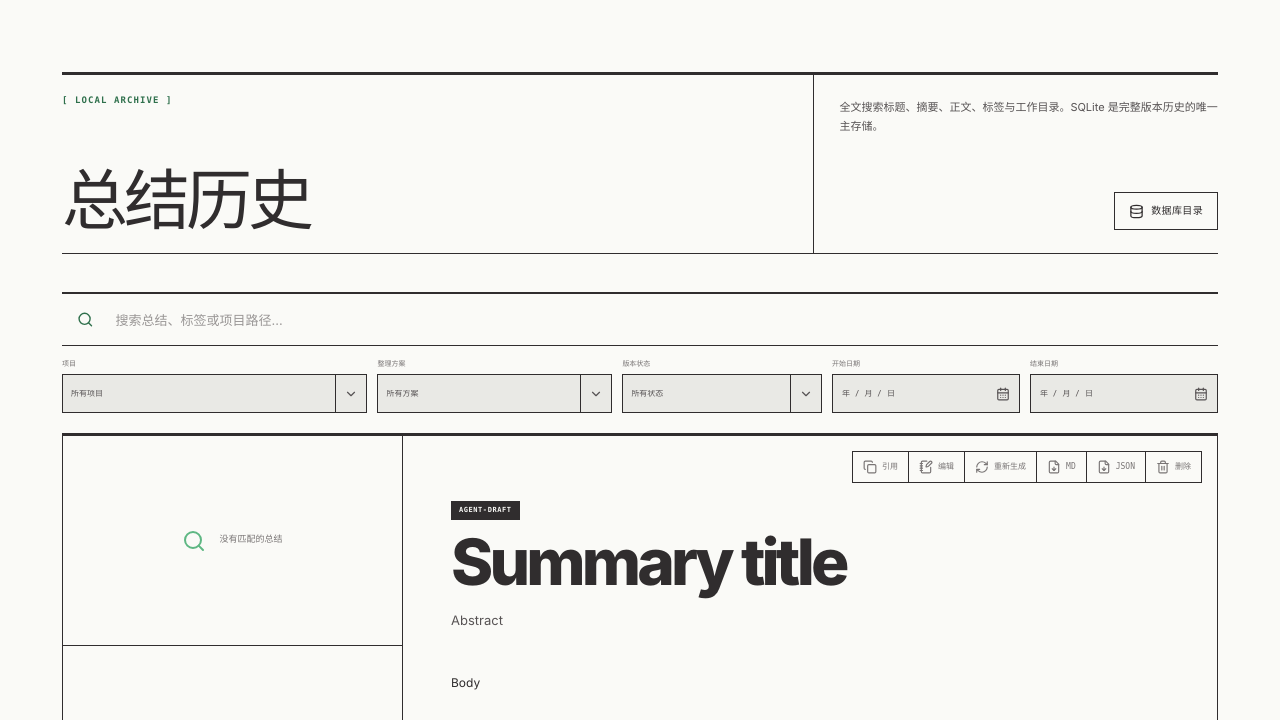
it: HistoryPage › requires an inline confirmation before deleting the selected summary
The width and height of the screenshot is (1280, 720).
Expected: the heading "Summary title" is shown, [451,524,846,601]
Click the button "删除" at (1174,467), box [1146,452,1201,482]
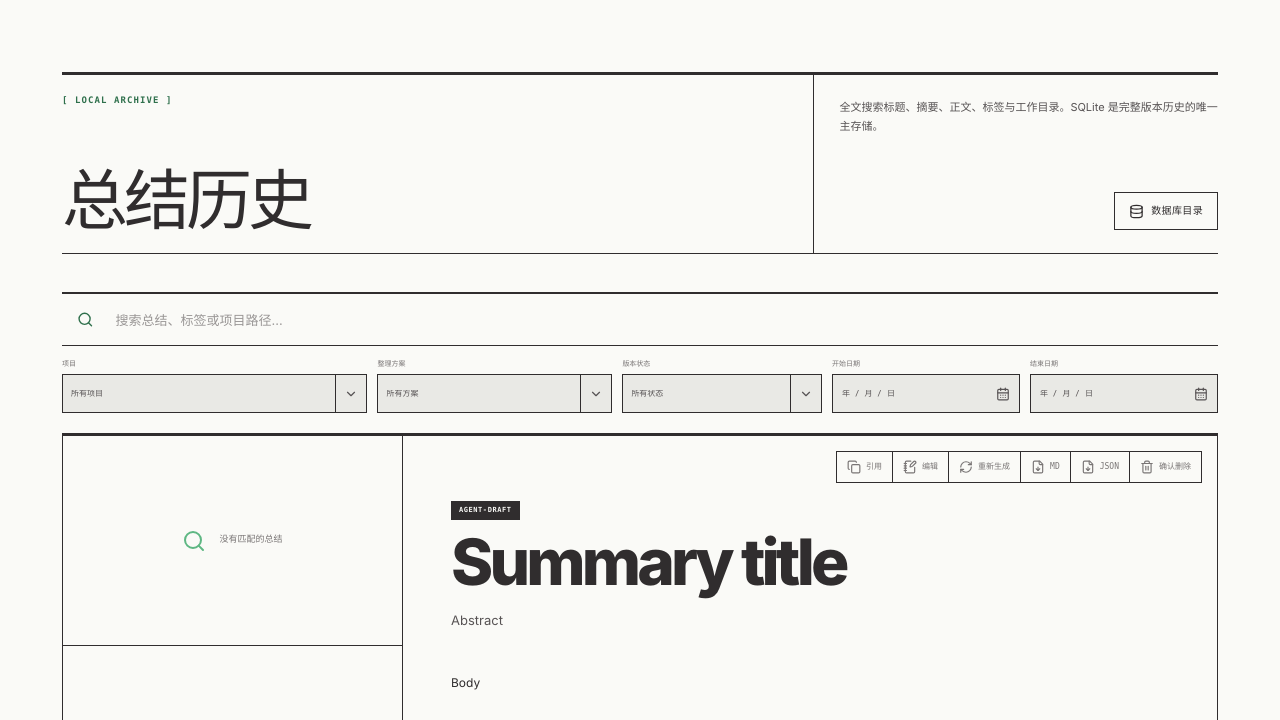
Click the button "确认删除" at (1166,467), box [1130,452,1201,482]
(page scrolled)
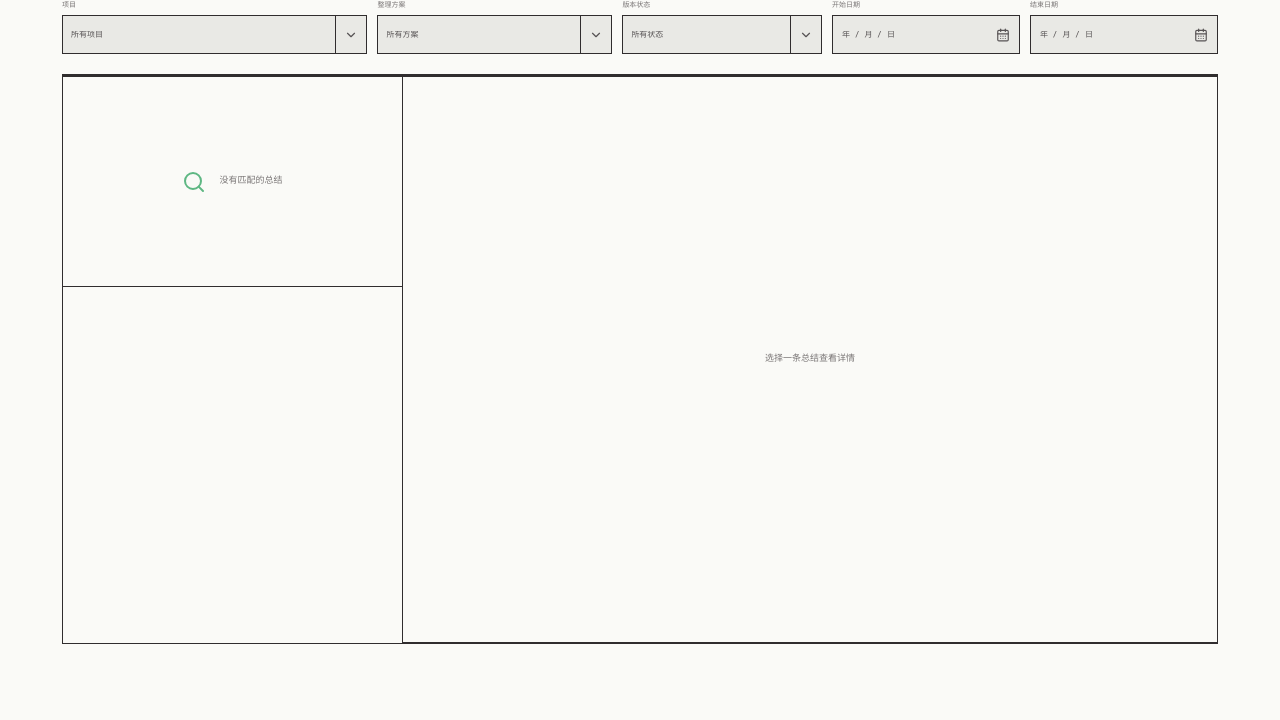
Result: the text "选择一条总结查看详情" is shown at [403,77,1217,643]
